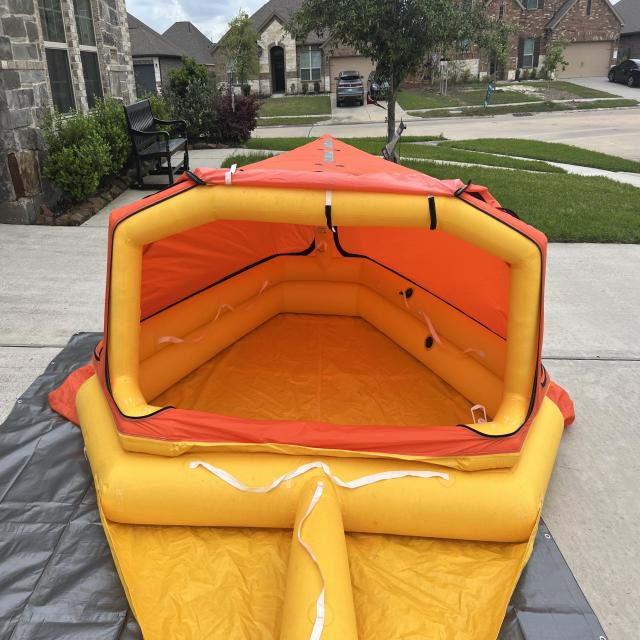Multi-person_life_raft: (47, 131, 577, 639)
